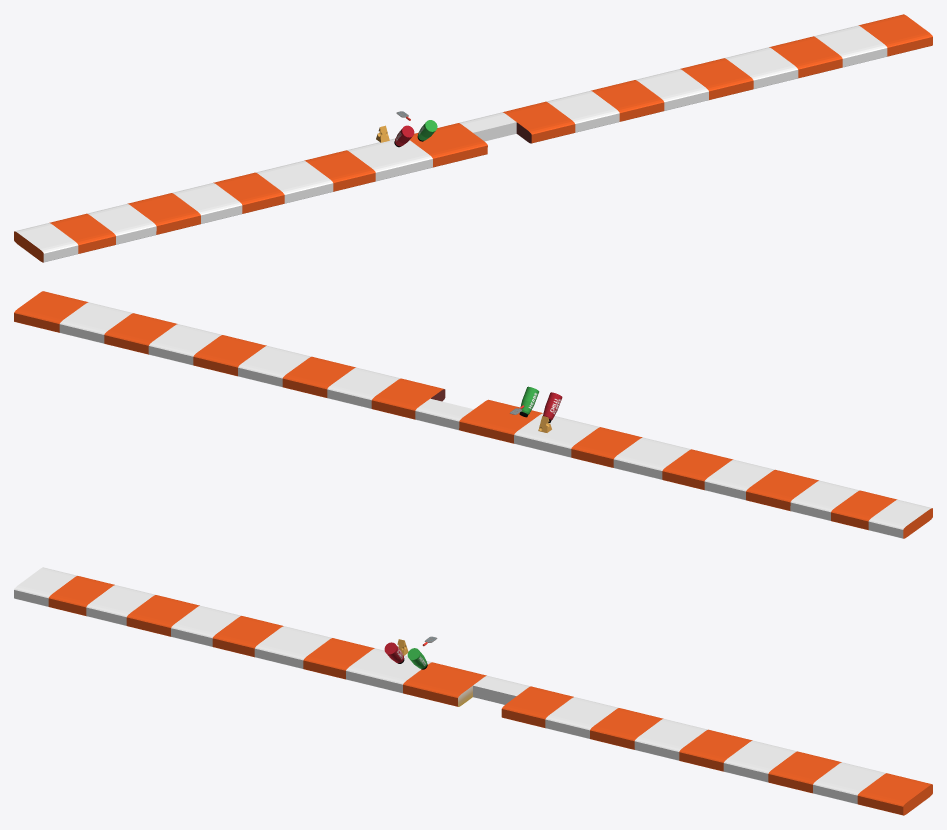
File: updated track .fbx
3 renders of one model, top to bottom at view 1: azimuth 30°, elevation 25°; view 2: azimuth 150°, elevation 25°; view 3: azimuth 330°, elevation 25°, orthographic.
Visible parts, largest first — view 1: Cube.001; view 2: Cube.001; view 3: Cube.001.
Part boxes in pixels (<box>): Cube.001: <box>14,14,932,262</box>; Cube.001: <box>14,291,932,538</box>; Cube.001: <box>14,567,932,815</box>.
Bounding box in the file's own units: 16074 × 716 × 1019.
6 materials, 5 textured.
